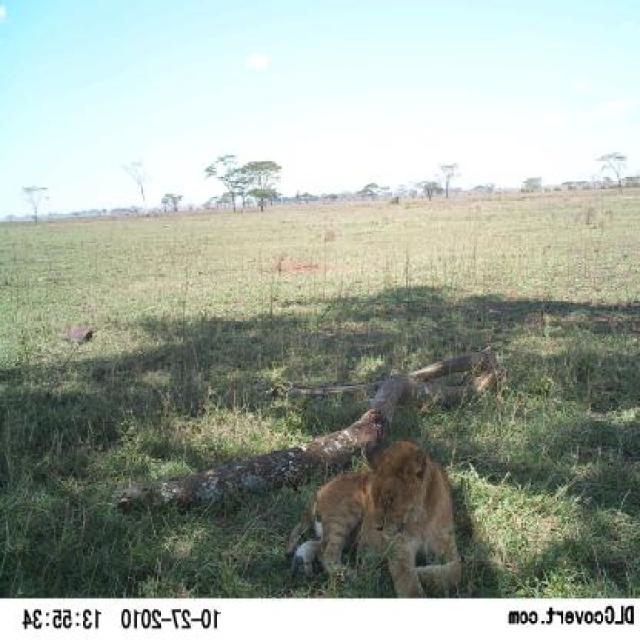Lion: (266, 418, 488, 592)
